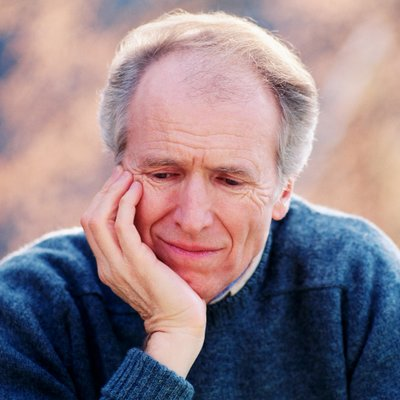sad: (114, 58, 292, 297)
